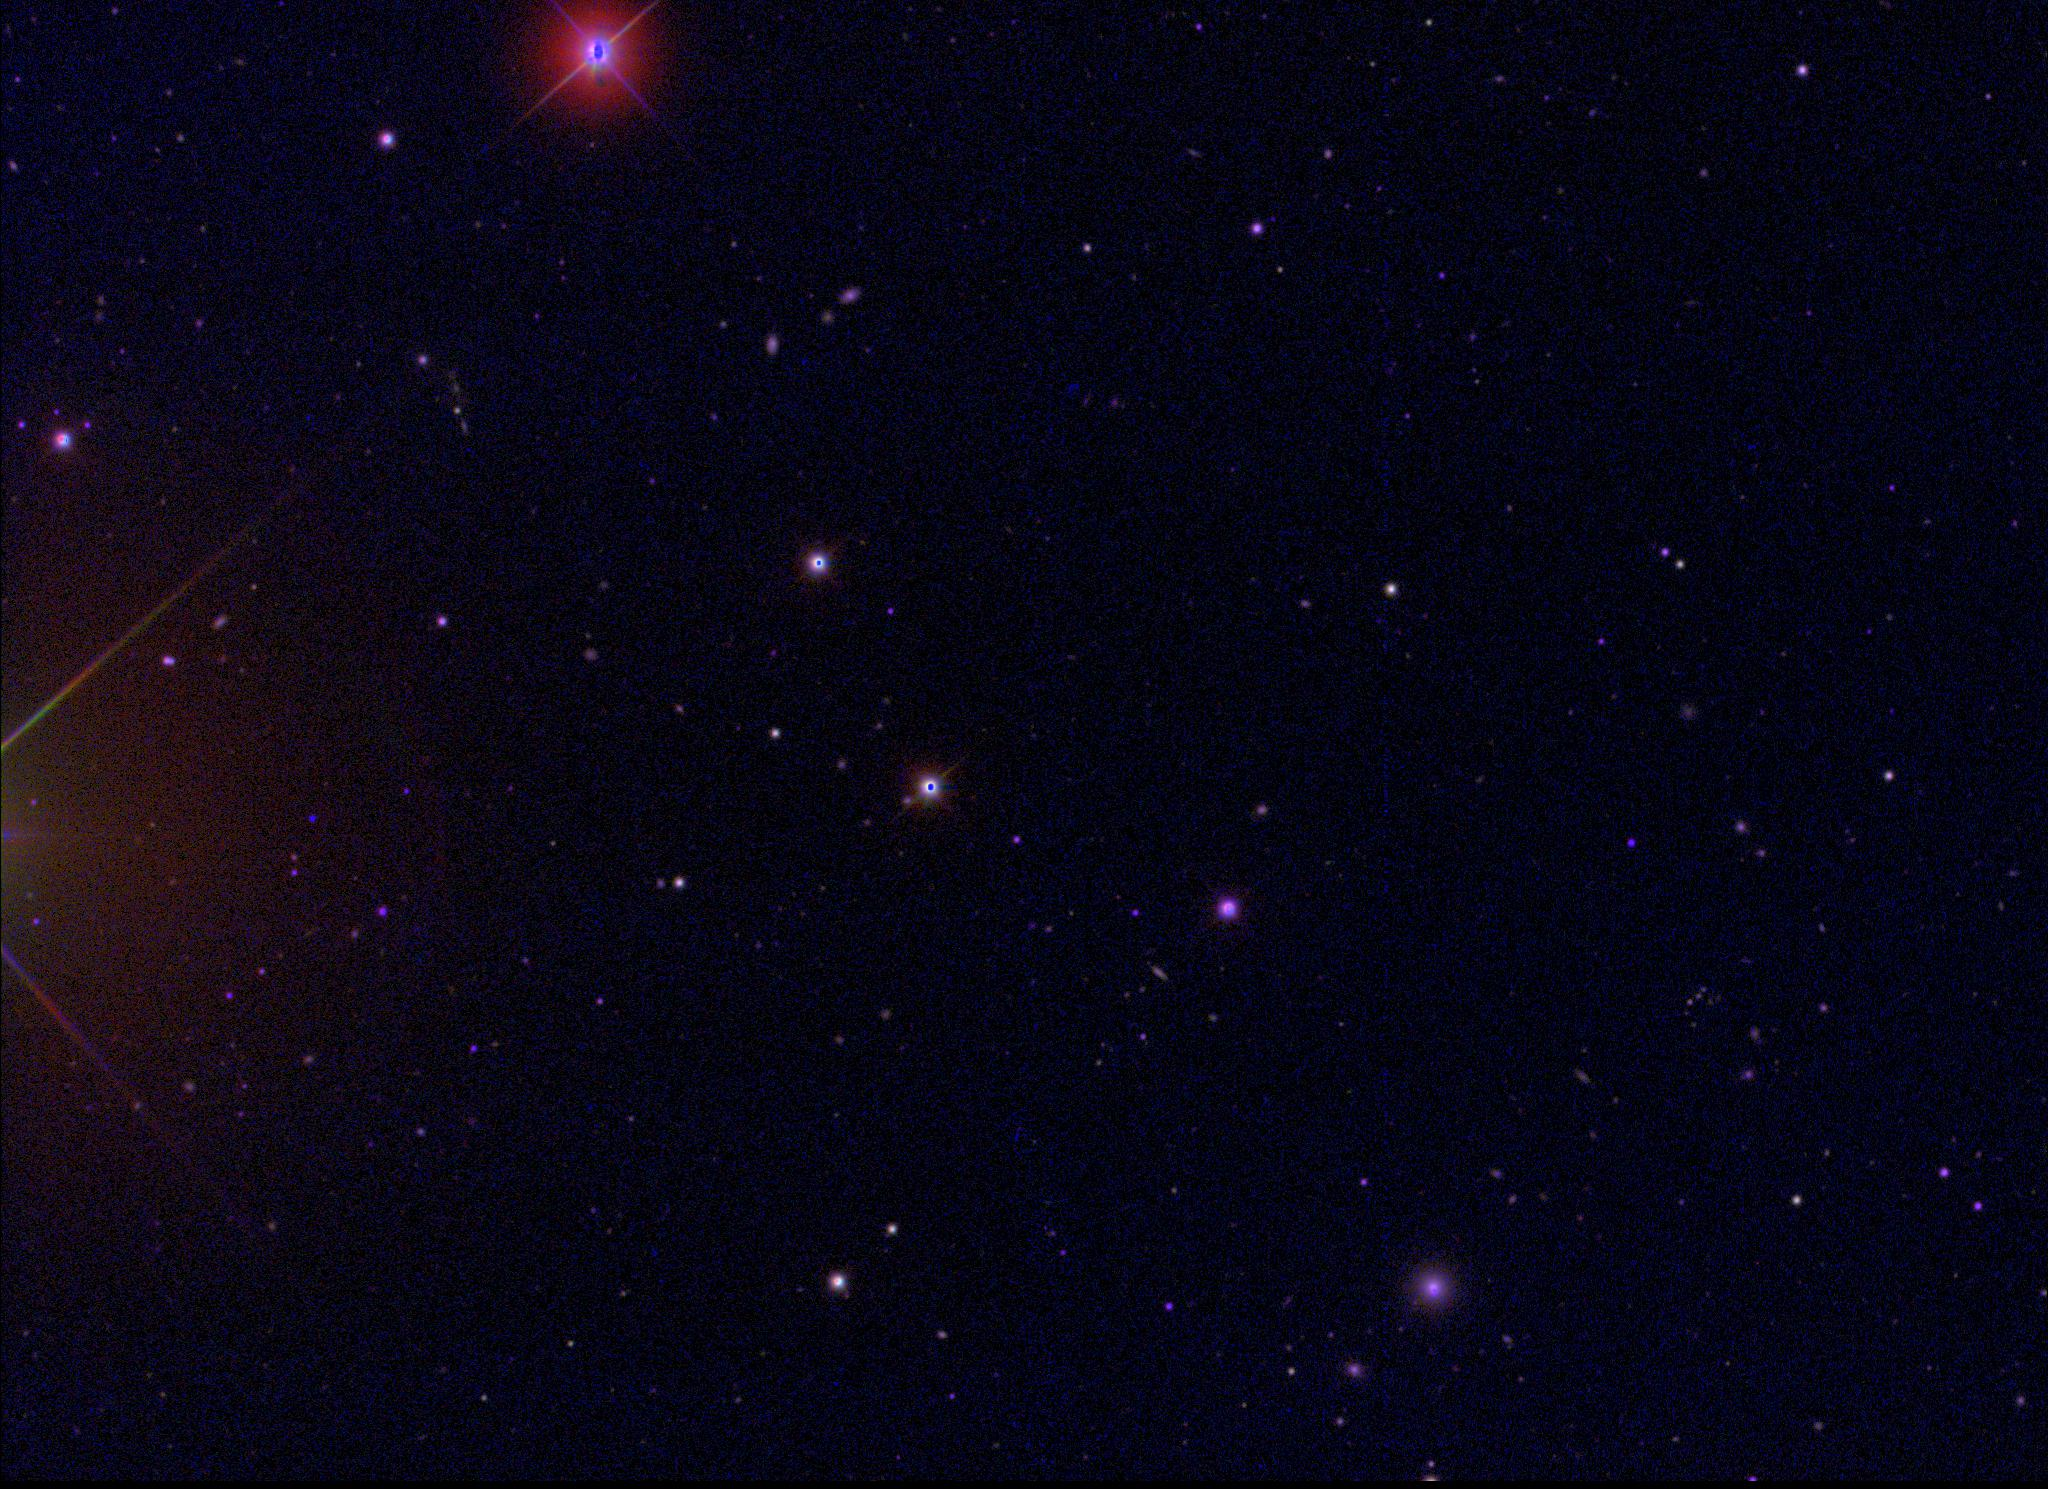L: (305, 813, 320, 827)
